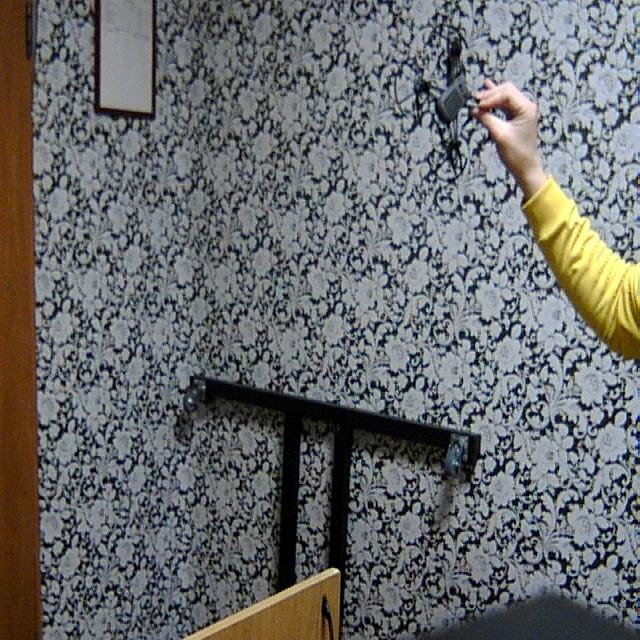drone: (377, 18, 526, 189)
